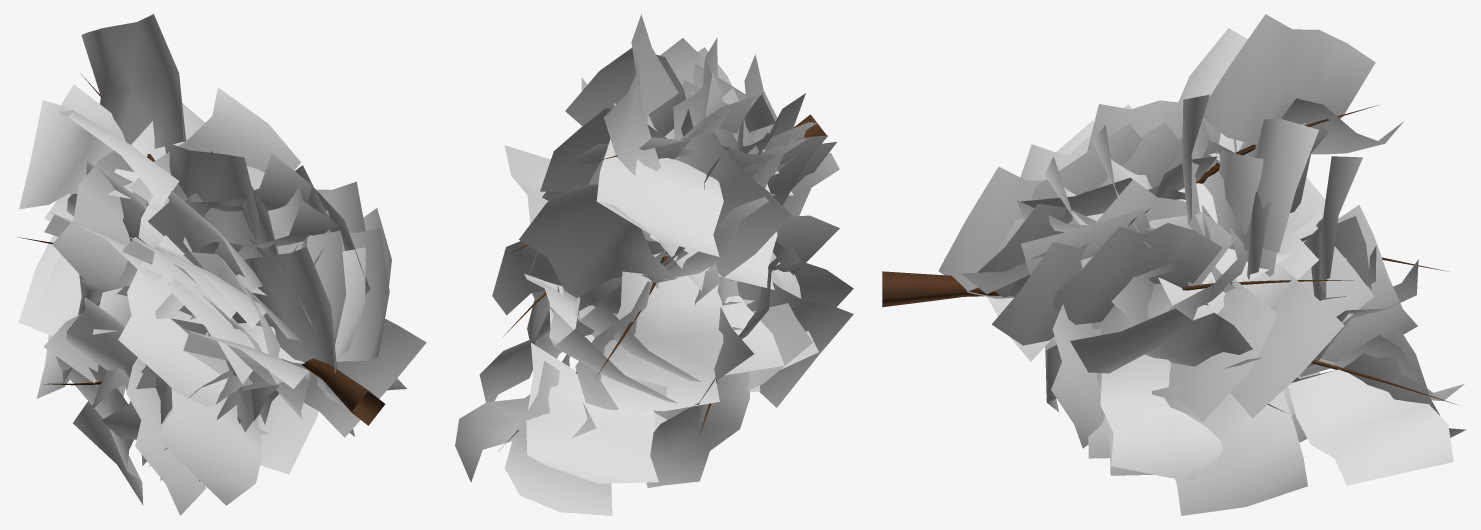
Rendered from TreeRotated.fbx.
3 views of the same model, side by side, from view 1: azimuth 30°, elevation 25°; view 2: azimuth 150°, elevation 25°; view 3: azimuth 270°, elevation 25° (orthographic). The views are drawn at different scales.
Parts seen in each view (by area): view 1: tree; view 2: tree; view 3: tree.
Boxes of the visible parts, bbox=[...] form: tree: bbox=[17, 14, 426, 515]; tree: bbox=[455, 14, 853, 515]; tree: bbox=[882, 14, 1465, 515].
Bounding box in the file's own units: 3030 × 4453 × 5017.
